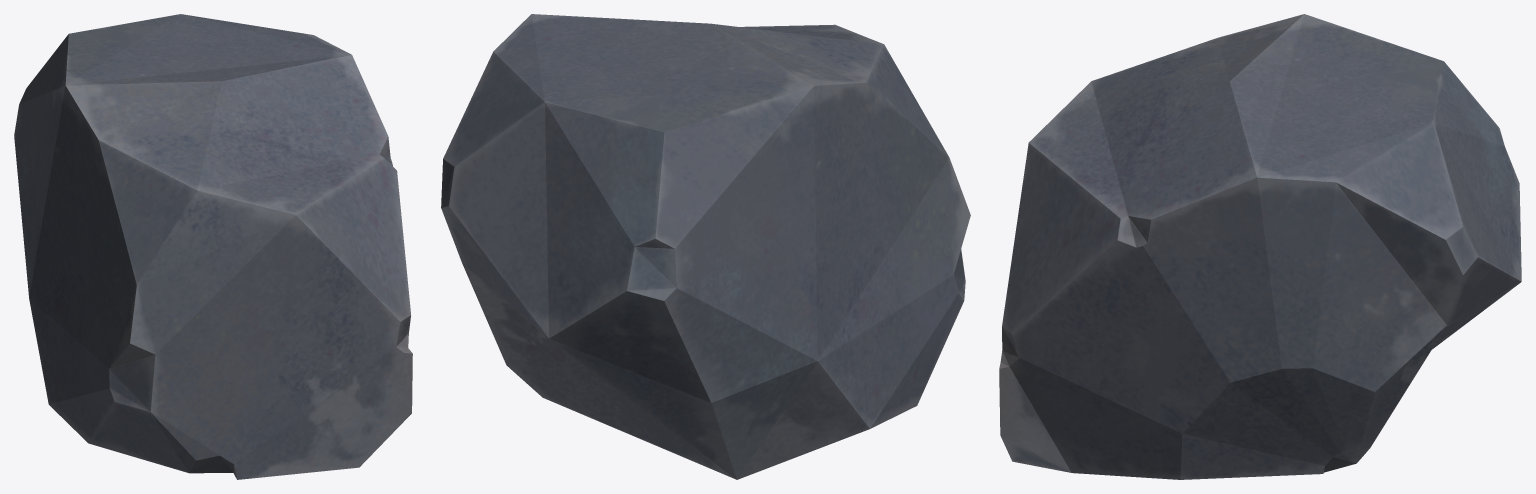
Rendered from pedra_e.glb.
The picture shows the model from 3 angles, left to right: view 1: azimuth 30°, elevation 25°; view 2: azimuth 150°, elevation 25°; view 3: azimuth 270°, elevation 25°; orthographic projection. The views are drawn at different scales.
Visible parts, largest first — view 1: Object_55; view 2: Object_55; view 3: Object_55.
Boxes of the visible parts, x1,y1,x2,y2 form: Object_55: (14, 14, 412, 479); Object_55: (441, 14, 970, 479); Object_55: (999, 14, 1521, 479).
Size of the model in its own units: 1.02 by 1 by 1.31.
1 material, 1 textured.
